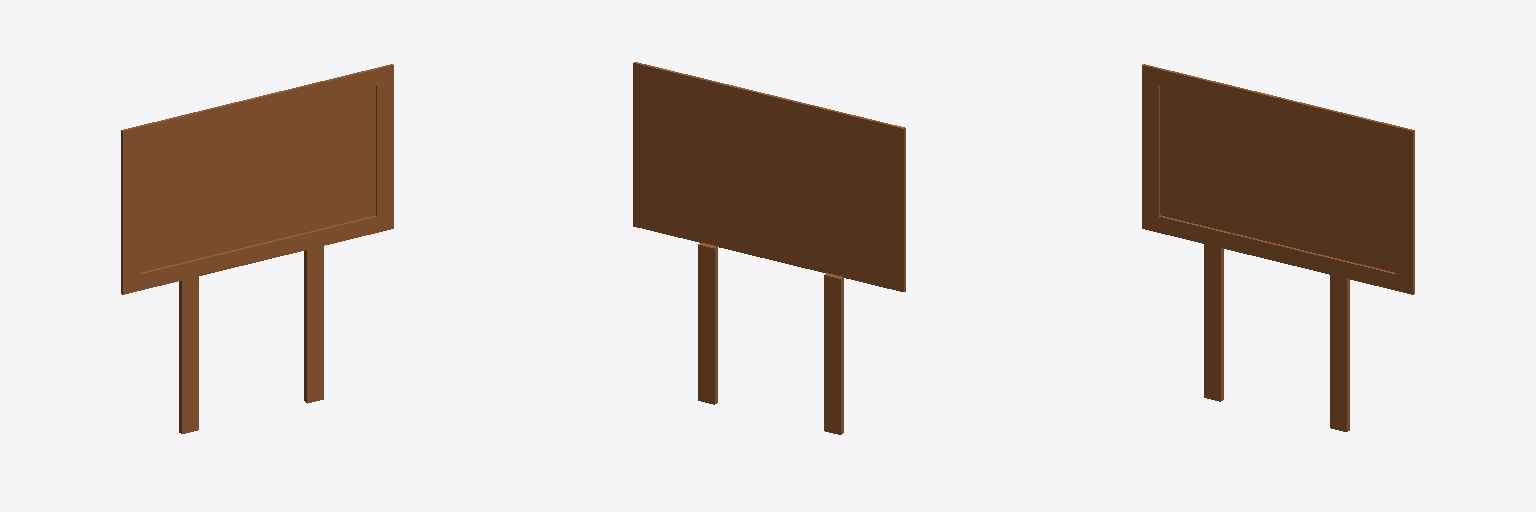
3 views of the same model, side by side, from view 1: azimuth 30°, elevation 25°; view 2: azimuth 150°, elevation 25°; view 3: azimuth 330°, elevation 25° (orthographic).
Visible parts, largest first — view 1: 牌子, 牌子柱子1, 牌子柱子; view 2: 牌子, 牌子柱子, 牌子柱子1; view 3: 牌子, 牌子柱子1, 牌子柱子.
Part boxes in pixels (bbox=[...]): 牌子: bbox=[121, 64, 393, 294]; 牌子柱子1: bbox=[179, 276, 198, 433]; 牌子柱子: bbox=[304, 246, 323, 403]; 牌子: bbox=[633, 62, 905, 291]; 牌子柱子: bbox=[698, 243, 717, 404]; 牌子柱子1: bbox=[824, 273, 843, 434]; 牌子: bbox=[1142, 64, 1414, 294]; 牌子柱子1: bbox=[1204, 244, 1223, 401]; 牌子柱子: bbox=[1330, 275, 1349, 431].
Bounding box in the file's own units: 1283 × 1444 × 39.63.